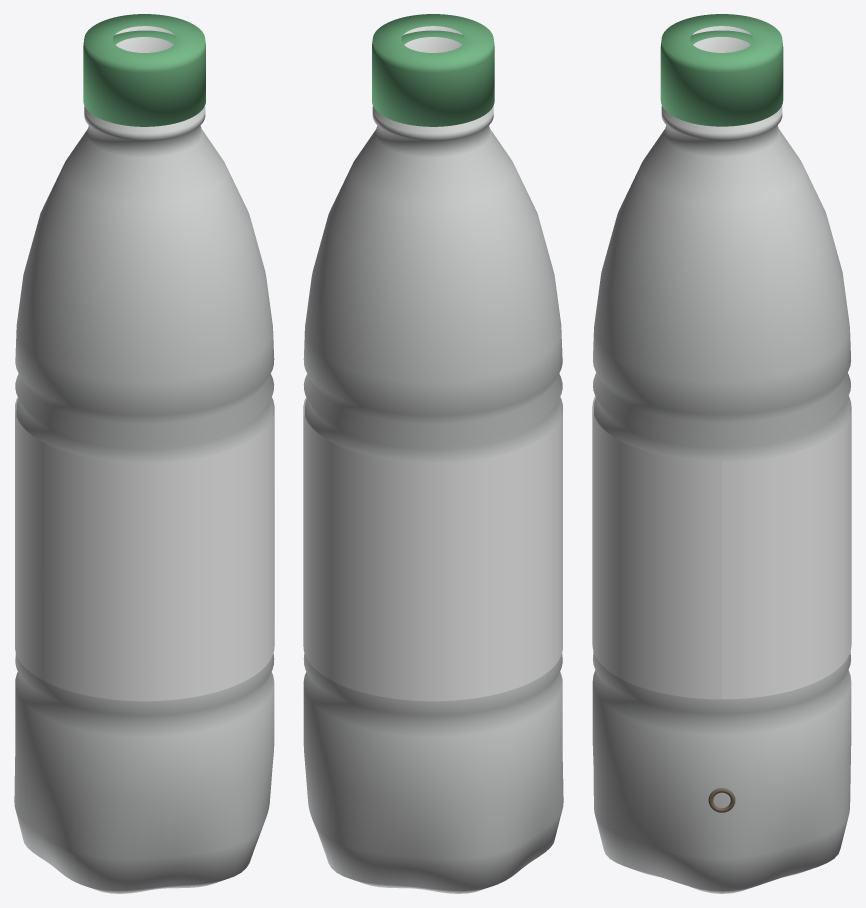
The model's file is bottle.glb.
3 renders of one model, left to right at view 1: azimuth 30°, elevation 25°; view 2: azimuth 150°, elevation 25°; view 3: azimuth 270°, elevation 25°, orthographic.
Visible parts, largest first — view 1: BottleShell, BottleLabel, PlasticCap; view 2: BottleShell, BottleLabel, PlasticCap; view 3: BottleShell, BottleLabel, PlasticCap.
Part boxes in pixels (x1,y1,x2,y2): BottleShell: (14,26,274,893); BottleLabel: (15,397,274,701); PlasticCap: (83,14,205,126); BottleShell: (303,26,563,893); BottleLabel: (303,397,562,701); PlasticCap: (372,14,494,126); BottleShell: (592,26,851,893); BottleLabel: (592,396,851,699); PlasticCap: (660,14,783,126).
Bounding box in the file's own units: 0.0658 × 0.226 × 0.0652.
